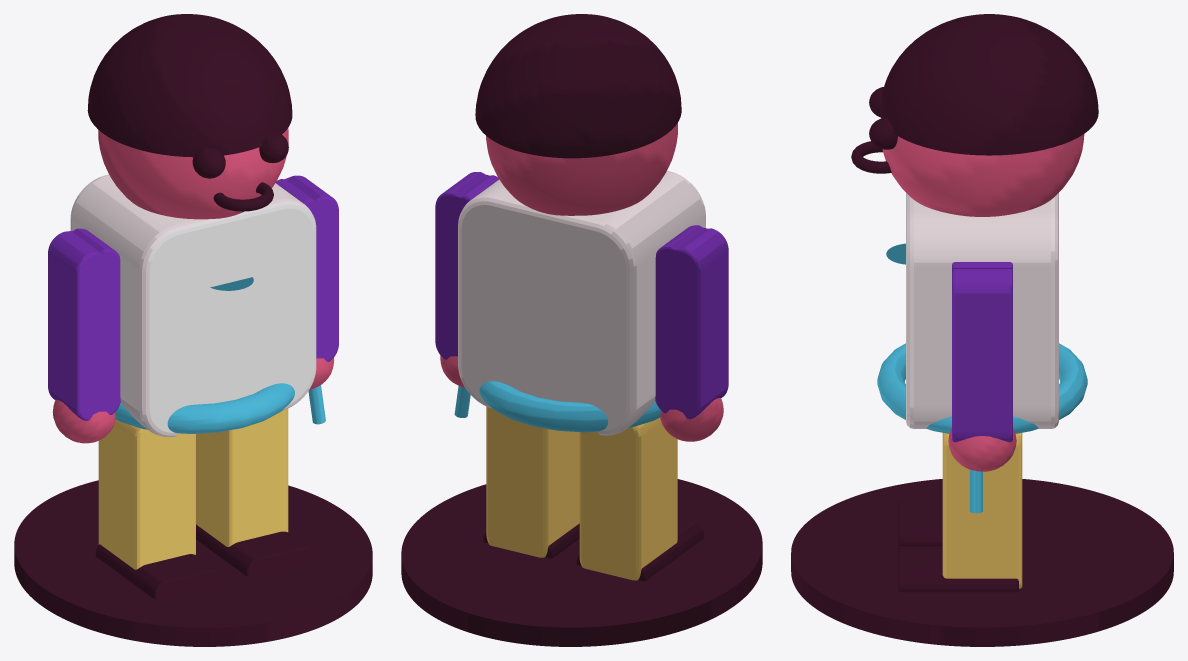
The picture shows the model from 3 angles, left to right: view 1: azimuth 30°, elevation 25°; view 2: azimuth 150°, elevation 25°; view 3: azimuth 270°, elevation 25°; orthographic projection.
Visible parts, largest first — view 1: card_0707; view 2: card_0707; view 3: card_0707.
Boxes of the visible parts, x1,y1,x2,y2 form: card_0707: (14,14,372,646); card_0707: (401,14,762,646); card_0707: (791,14,1173,646).
Bounding box in the file's own units: 0.5885 × 1 × 0.6329.
